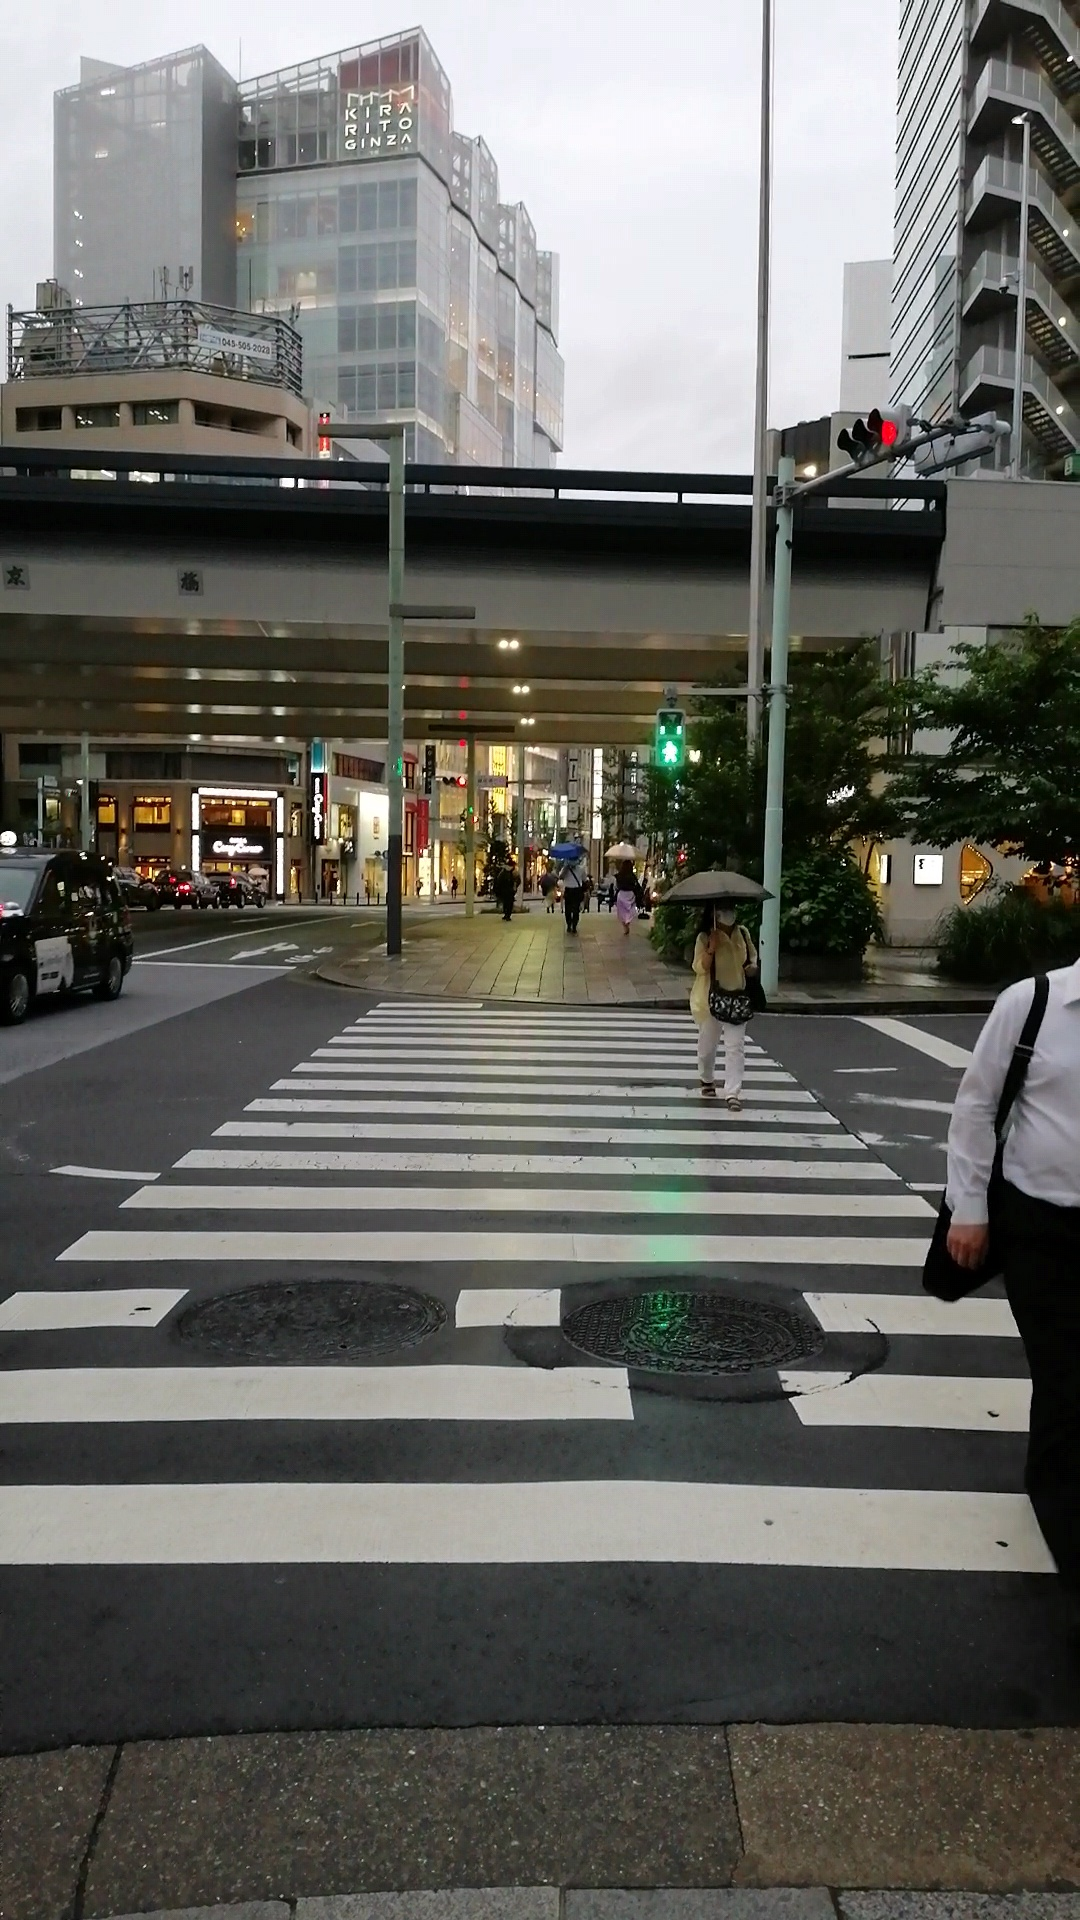green: (651, 705, 684, 770)
